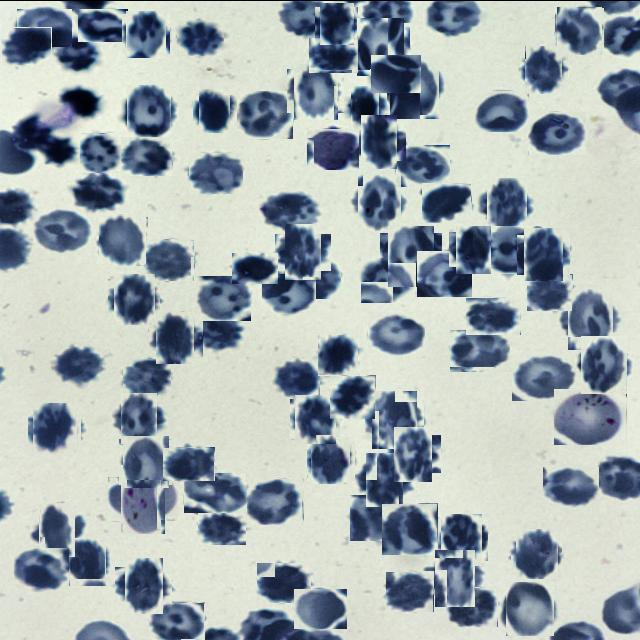red blood cell: (386, 58, 444, 114), (512, 354, 576, 400), (564, 292, 618, 346), (384, 228, 438, 282), (382, 502, 438, 554), (354, 19, 408, 72), (368, 392, 421, 444), (578, 338, 630, 391), (246, 477, 304, 524), (504, 582, 556, 634), (32, 208, 92, 253), (237, 90, 293, 138), (450, 328, 511, 371), (368, 310, 426, 355), (488, 225, 542, 273), (417, 250, 472, 296), (14, 546, 70, 591), (184, 472, 247, 512), (120, 436, 170, 486), (354, 177, 404, 227), (290, 66, 340, 116), (528, 111, 586, 154), (350, 494, 404, 540), (196, 275, 251, 320), (430, 553, 480, 602), (286, 254, 341, 298), (125, 86, 174, 135), (261, 191, 321, 231), (98, 214, 146, 264), (361, 256, 413, 302), (474, 90, 530, 132), (30, 404, 79, 452), (189, 151, 244, 193), (543, 466, 599, 507), (396, 144, 450, 186), (483, 180, 530, 228), (152, 312, 199, 360), (257, 561, 312, 602), (307, 127, 360, 169), (389, 429, 436, 476), (556, 6, 603, 53), (438, 516, 486, 562), (120, 562, 168, 608), (149, 601, 205, 640), (513, 530, 560, 576), (111, 275, 157, 322), (292, 588, 346, 628), (262, 273, 316, 313), (121, 136, 174, 176), (362, 456, 408, 502), (292, 396, 338, 442), (34, 506, 80, 552), (520, 231, 566, 277), (280, 228, 326, 274), (145, 238, 195, 280), (466, 296, 521, 334), (17, 8, 72, 46), (446, 586, 498, 626), (356, 119, 402, 164), (330, 374, 376, 418), (72, 172, 125, 210), (422, 182, 472, 222), (386, 570, 434, 611), (272, 357, 320, 398), (308, 438, 352, 482), (117, 395, 161, 439), (65, 540, 109, 584), (124, 12, 168, 56), (123, 357, 172, 396), (52, 346, 102, 384), (2, 26, 52, 64), (371, 54, 421, 92), (522, 48, 566, 91), (194, 313, 242, 352), (309, 36, 359, 72), (177, 18, 225, 55), (163, 446, 215, 480), (452, 228, 494, 270), (527, 273, 573, 310), (317, 334, 358, 375), (80, 132, 122, 172), (78, 8, 128, 41), (54, 36, 100, 71), (198, 510, 245, 544), (317, 3, 356, 42), (196, 91, 234, 129), (232, 252, 278, 283), (348, 88, 383, 125)
ring: (554, 388, 627, 444), (115, 469, 172, 526)
